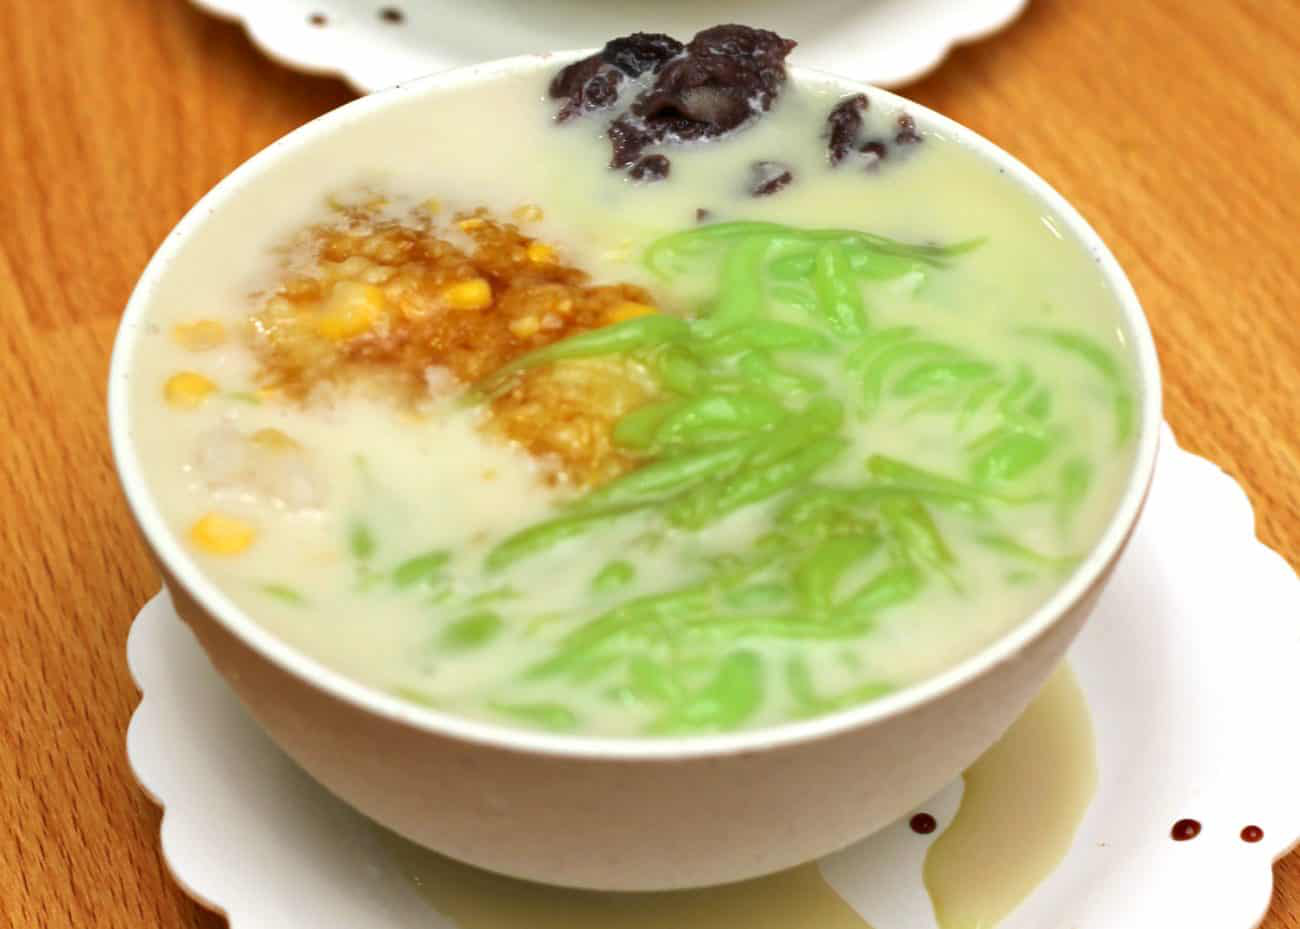Chendol: (145, 25, 1152, 759)
